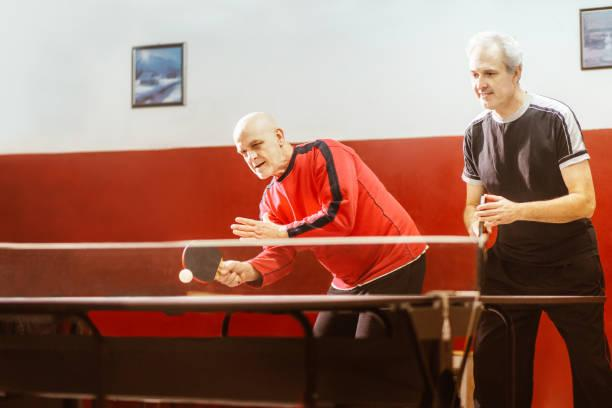ball_pingpong: (180, 270, 193, 285)
